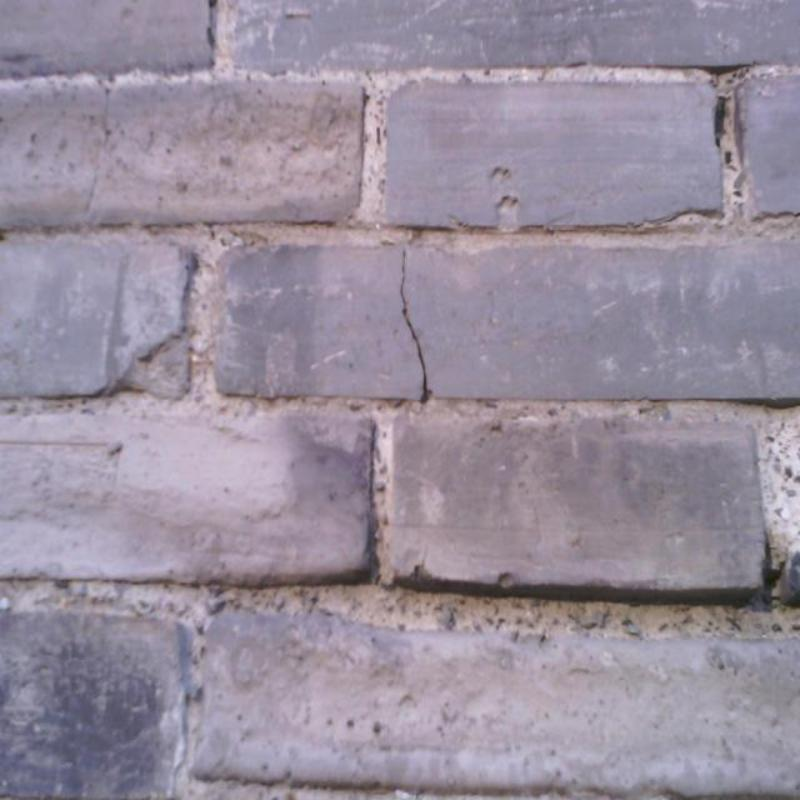pothole: (400, 251, 430, 405)
